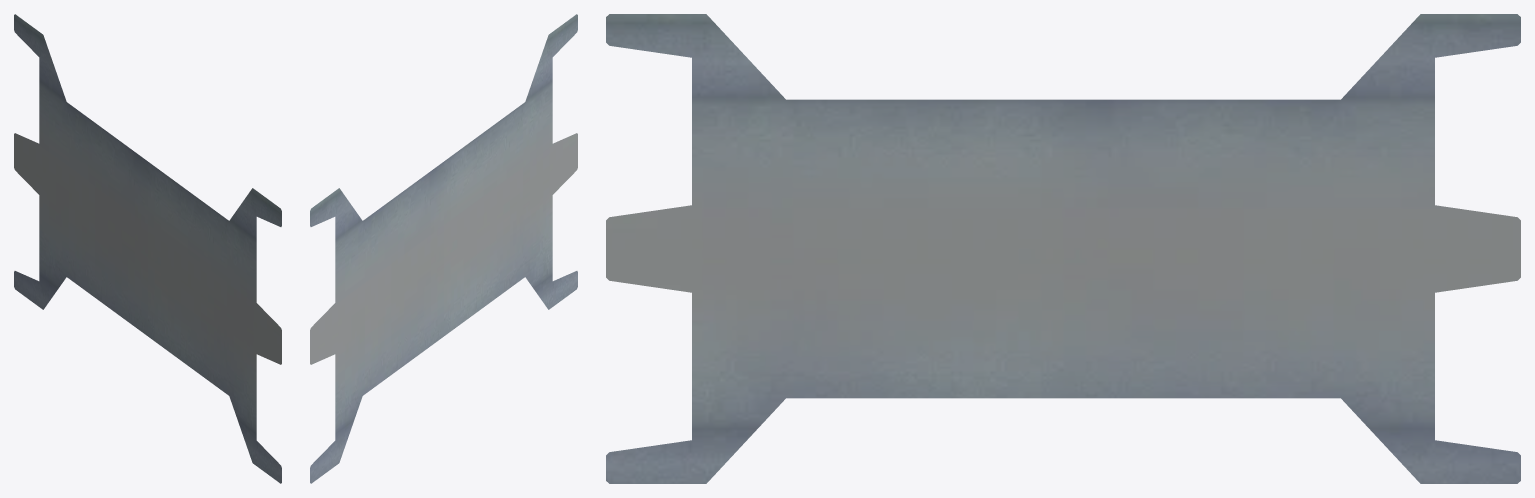
Rendered from track-01-tap-art.glb.
3 views of the same model, side by side, from view 1: azimuth 30°, elevation 25°; view 2: azimuth 150°, elevation 25°; view 3: azimuth 270°, elevation 25° (orthographic). The views are drawn at different scales.
Parts seen in each view (by area): view 1: Track_01_Tap_Art; view 2: Track_01_Tap_Art; view 3: Track_01_Tap_Art.
Boxes of the visible parts, x1=… form: Track_01_Tap_Art: x1=14, y1=14, x2=281, y2=483; Track_01_Tap_Art: x1=310, y1=14, x2=577, y2=483; Track_01_Tap_Art: x1=606, y1=14, x2=1520, y2=483.
Bounding box in the file's own units: 0 × 1.28 × 2.26.
1 material, 1 textured.
